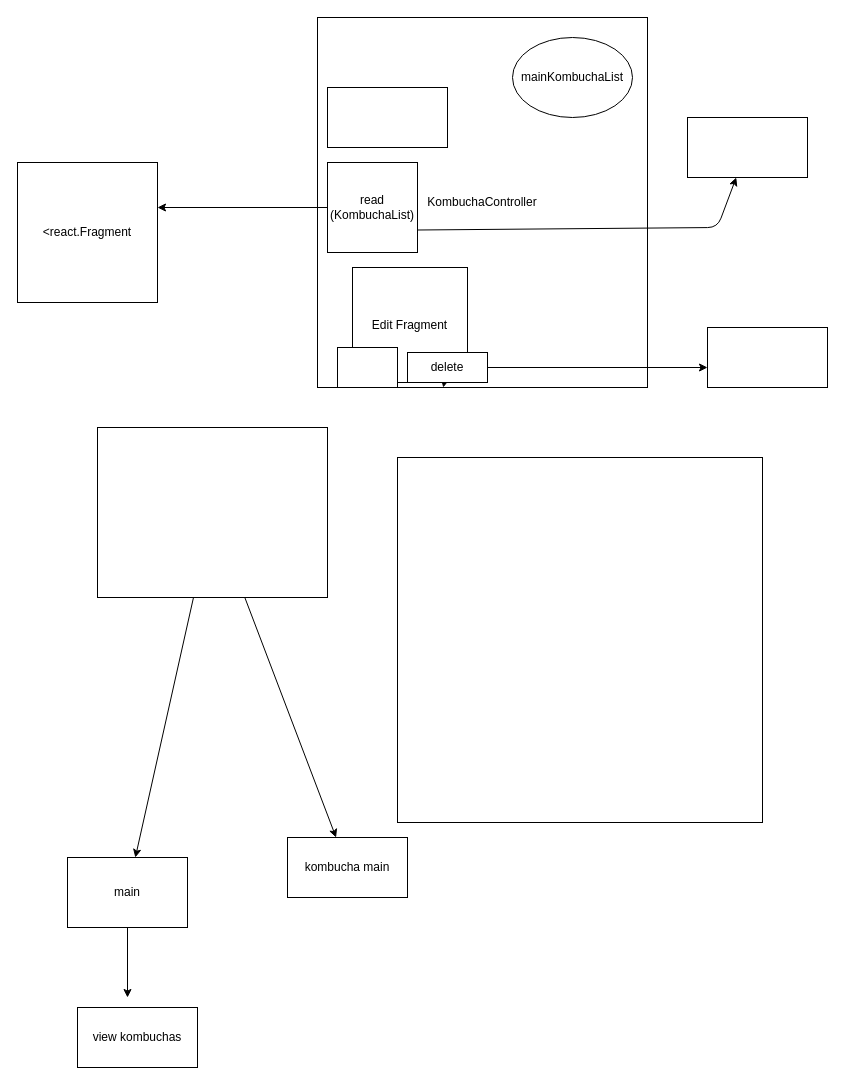
Image size: 845x1085. Some labels were removed from this diagram. Here are the shapes that lost their labels. From the top down, the centre of each, then its label:
(387,117): create
(747,147): return
(367,367): update
(767,357): array with no index
(212,512): app
